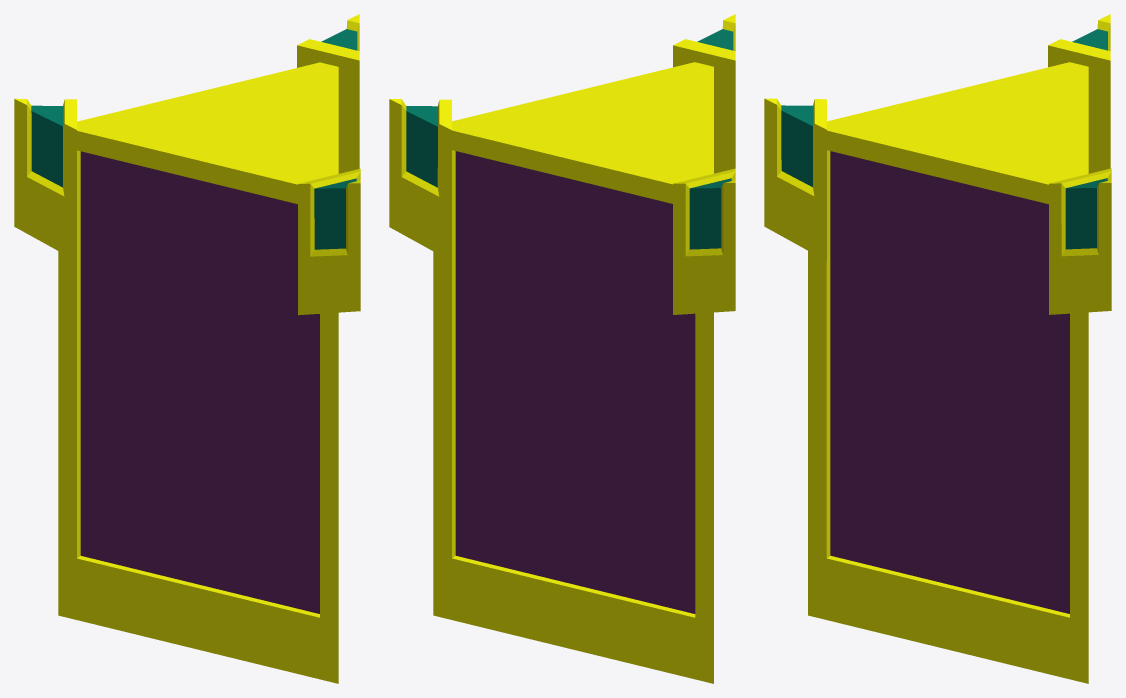
Rendered from SM_panneau_affichage.fbx.
3 renders of one model, left to right at view 1: azimuth 30°, elevation 25°; view 2: azimuth 150°, elevation 25°; view 3: azimuth 270°, elevation 25°, orthographic.
Parts seen in each view (by area): view 1: SM_panneau_affichage; view 2: SM_panneau_affichage; view 3: SM_panneau_affichage.
Part boxes in pixels (<box>): SM_panneau_affichage: <box>14,14,360,683</box>; SM_panneau_affichage: <box>389,14,735,683</box>; SM_panneau_affichage: <box>764,14,1111,683</box>.
Bounding box in the file's own units: 1.47 × 2.1 × 1.28.
